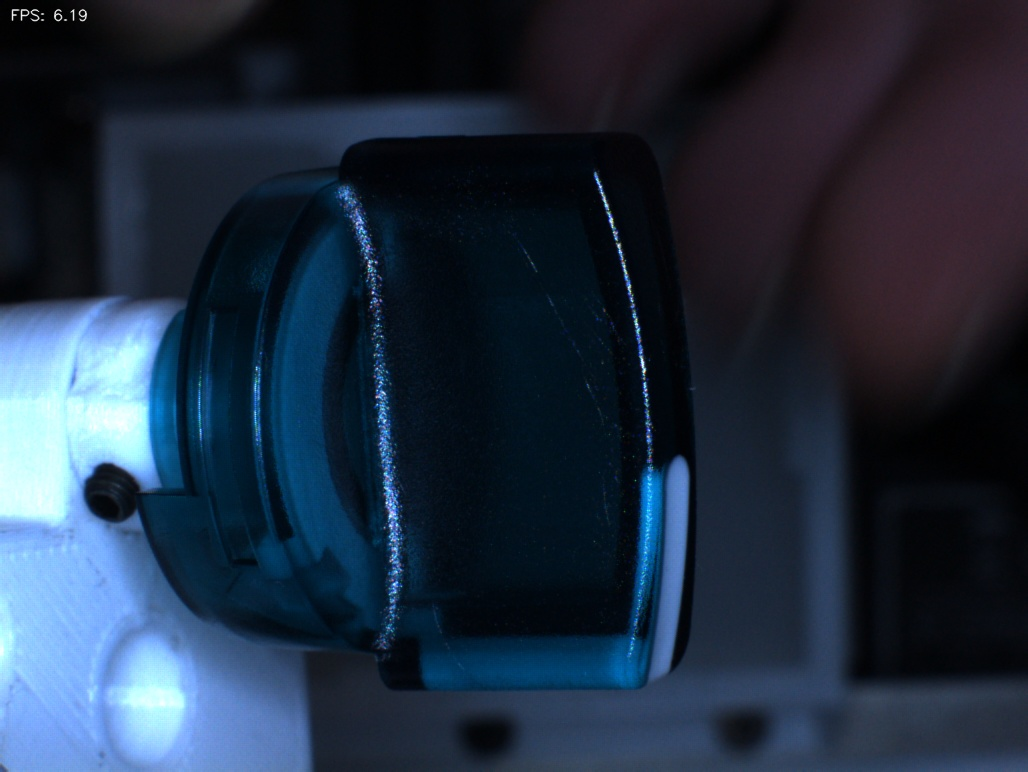Givrage: (511, 226, 638, 524), (423, 593, 476, 693)
